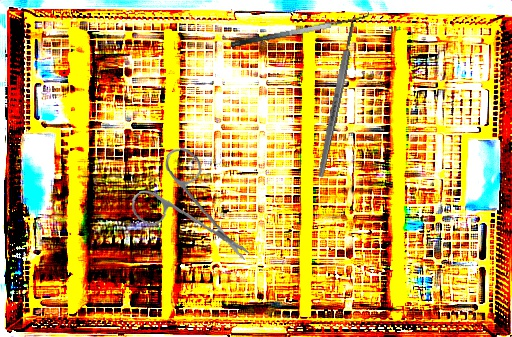Iris Scissors: (128, 144, 251, 268)
Scalpel Handle: (315, 21, 358, 179)
Spatula Surgical: (228, 4, 371, 49)
